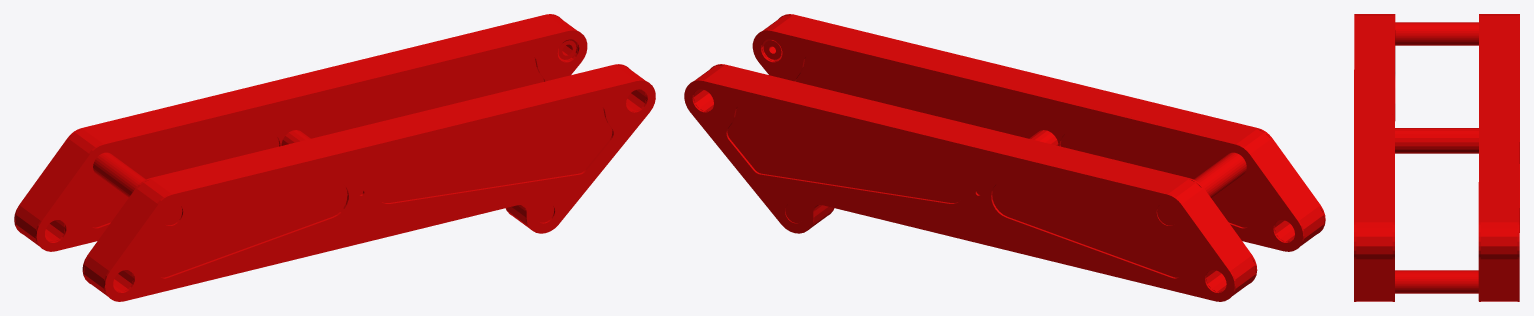
Rendered from ARM5E_part2.dae.
3 views of the same model, side by side, from view 1: azimuth 30°, elevation 25°; view 2: azimuth 150°, elevation 25°; view 3: azimuth 270°, elevation 25° (orthographic). The views are drawn at different scales.
Parts seen in each view (by area): view 1: Mesh_004; view 2: Mesh_004; view 3: Mesh_004.
Part boxes in pixels (bbox=[...]): Mesh_004: bbox=[14, 14, 655, 301]; Mesh_004: bbox=[684, 14, 1325, 301]; Mesh_004: bbox=[1354, 14, 1519, 301].
Bounding box in the file's own units: 0.6369 × 0.1822 × 0.1436.
